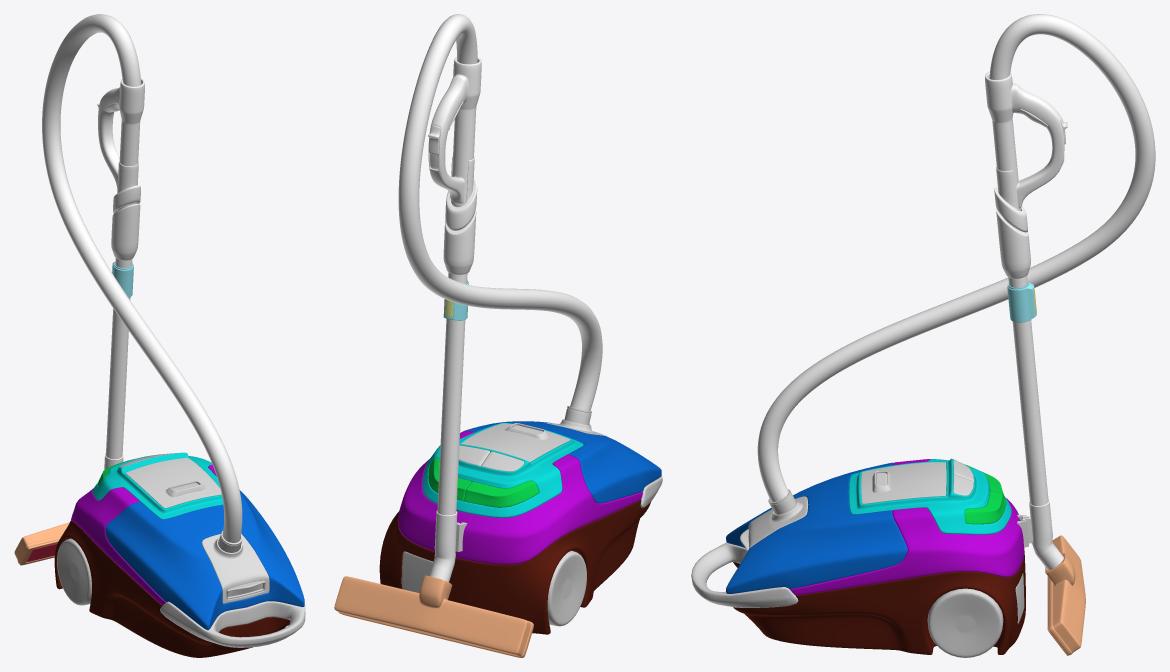
File: Aspiradora.fbx
3 renders of one model, left to right at view 1: azimuth 30°, elevation 25°; view 2: azimuth 150°, elevation 25°; view 3: azimuth 270°, elevation 25°, orthographic. The views are drawn at different scales.
Visible parts, largest first — view 1: Base.013, Shlang.003, Handle.007, Pipe.007, BaseTop.005, Pipe.006, Base.015, Cylinder.033, Cylinder.038, Nasadka.004, Cylinder.037, Cylinder.039 (+1 smaller); view 2: Base.013, Shlang.003, Nasadka.004, Pipe.007, Pipe.006, BaseTop.005, Cylinder.033, Cylinder.038, Cylinder.040, Cylinder.037, Base.014, Base.017; view 3: Base.013, Shlang.003, Pipe.007, Cylinder.033, Pipe.006, Nasadka.004, BaseTop.005, Handle.007, Cylinder.038, Cylinder.040, Base.015, Cylinder.037 (+1 smaller).
Part boxes in pixels (x1,y1,x2,y2): Base.013: (54,452,304,657); Shlang.003: (42,14,242,542); Handle.007: (160,601,305,647); Pipe.007: (98,78,144,204); BaseTop.005: (125,457,221,508); Pipe.006: (106,203,135,459); Base.015: (202,534,269,603); Cylinder.033: (57,538,91,605); Cylinder.038: (111,204,140,260); Nasadka.004: (14,522,69,565); Cylinder.037: (113,161,140,213); Cylinder.039: (112,262,133,297); Base.013: (379,421,661,634); Shlang.003: (398,14,602,410); Nasadka.004: (334,575,533,657); Pipe.007: (428,57,481,206); Pipe.006: (437,205,467,515); BaseTop.005: (461,423,570,462); Cylinder.033: (547,550,586,626); Cylinder.038: (443,207,476,274); Cylinder.040: (429,510,457,581); Cylinder.037: (445,155,477,230); Base.014: (459,445,524,471); Base.017: (401,551,432,592); Base.013: (726,458,1025,654); Shlang.003: (757,14,1155,501); Pipe.007: (985,71,1064,210); Cylinder.033: (927,588,1003,657); Pipe.006: (1004,218,1048,505); Nasadka.004: (1045,535,1085,655); BaseTop.005: (861,462,946,503); Handle.007: (691,542,798,607); Cylinder.038: (996,209,1030,278); Cylinder.040: (1029,500,1063,570); Base.015: (748,496,808,548); Cylinder.037: (994,166,1027,232).
Size of the model in its own units: 40.06 by 127 by 88.57.
